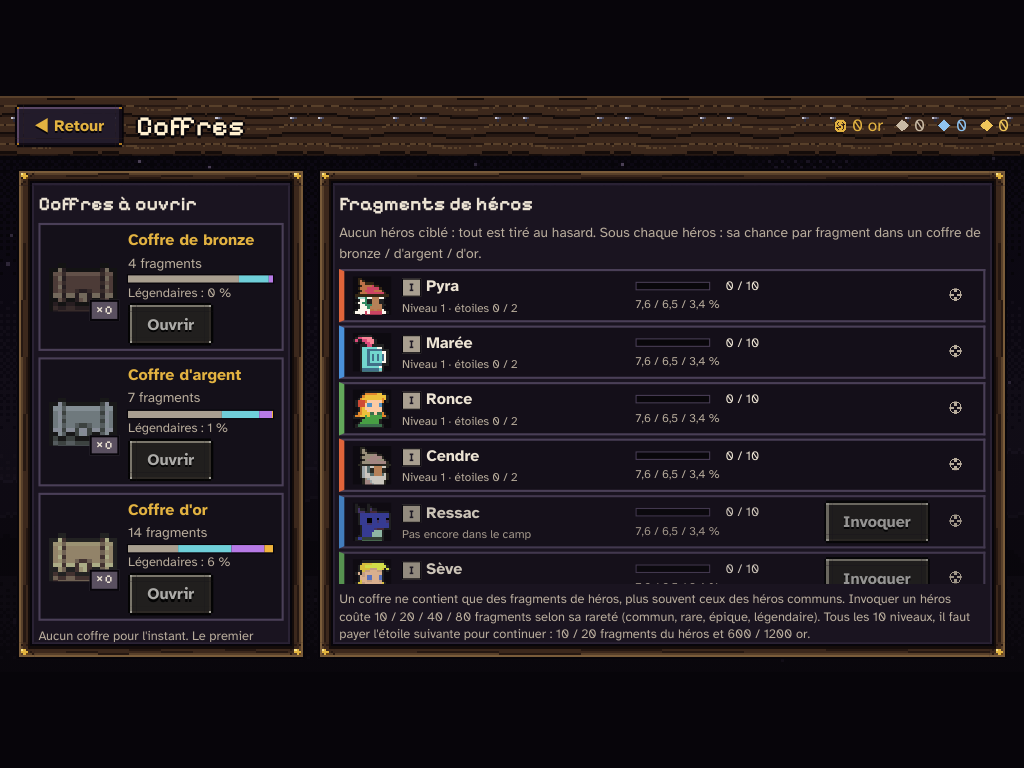
Test: écran des coffres › cible un héros et le retire d’un second clic
Expected: the text "Aucun héros ciblé : tout est tiré au hasard." is shown, x1=339 y1=224 x2=596 y2=241
Click the button named "Cibler Pyra" at (956, 295), box x1=936 y1=274 x2=975 y2=317
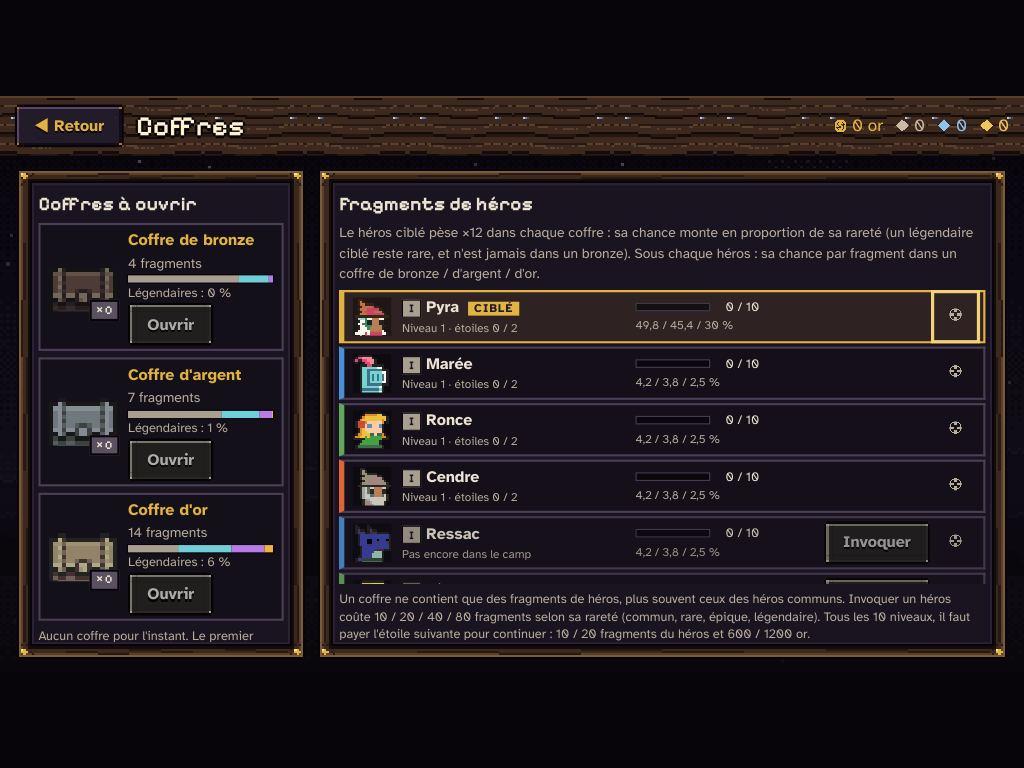
Now the text "Ciblé" is shown, box x1=468 y1=301 x2=520 y2=315
Click the button named "Pyra est ciblé. Cliquer pour ne plus cibler." at (956, 316), box x1=936 y1=295 x2=975 y2=338
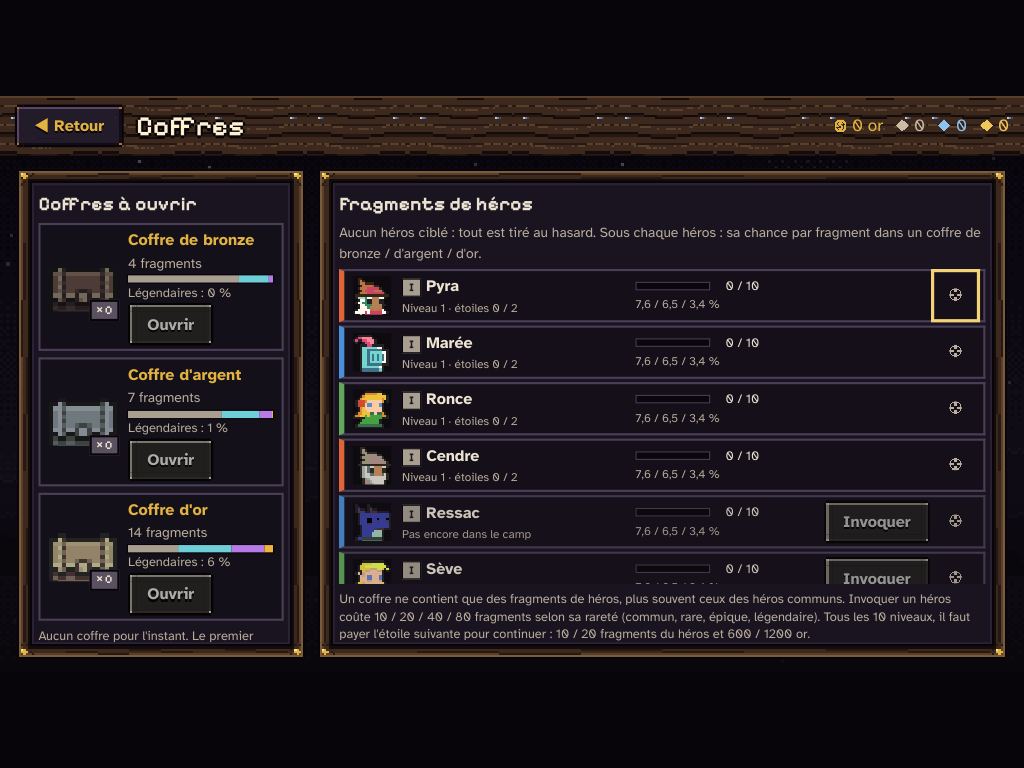
Now the text "Aucun héros ciblé : tout est tiré au hasard." is shown, box x1=339 y1=224 x2=596 y2=241
